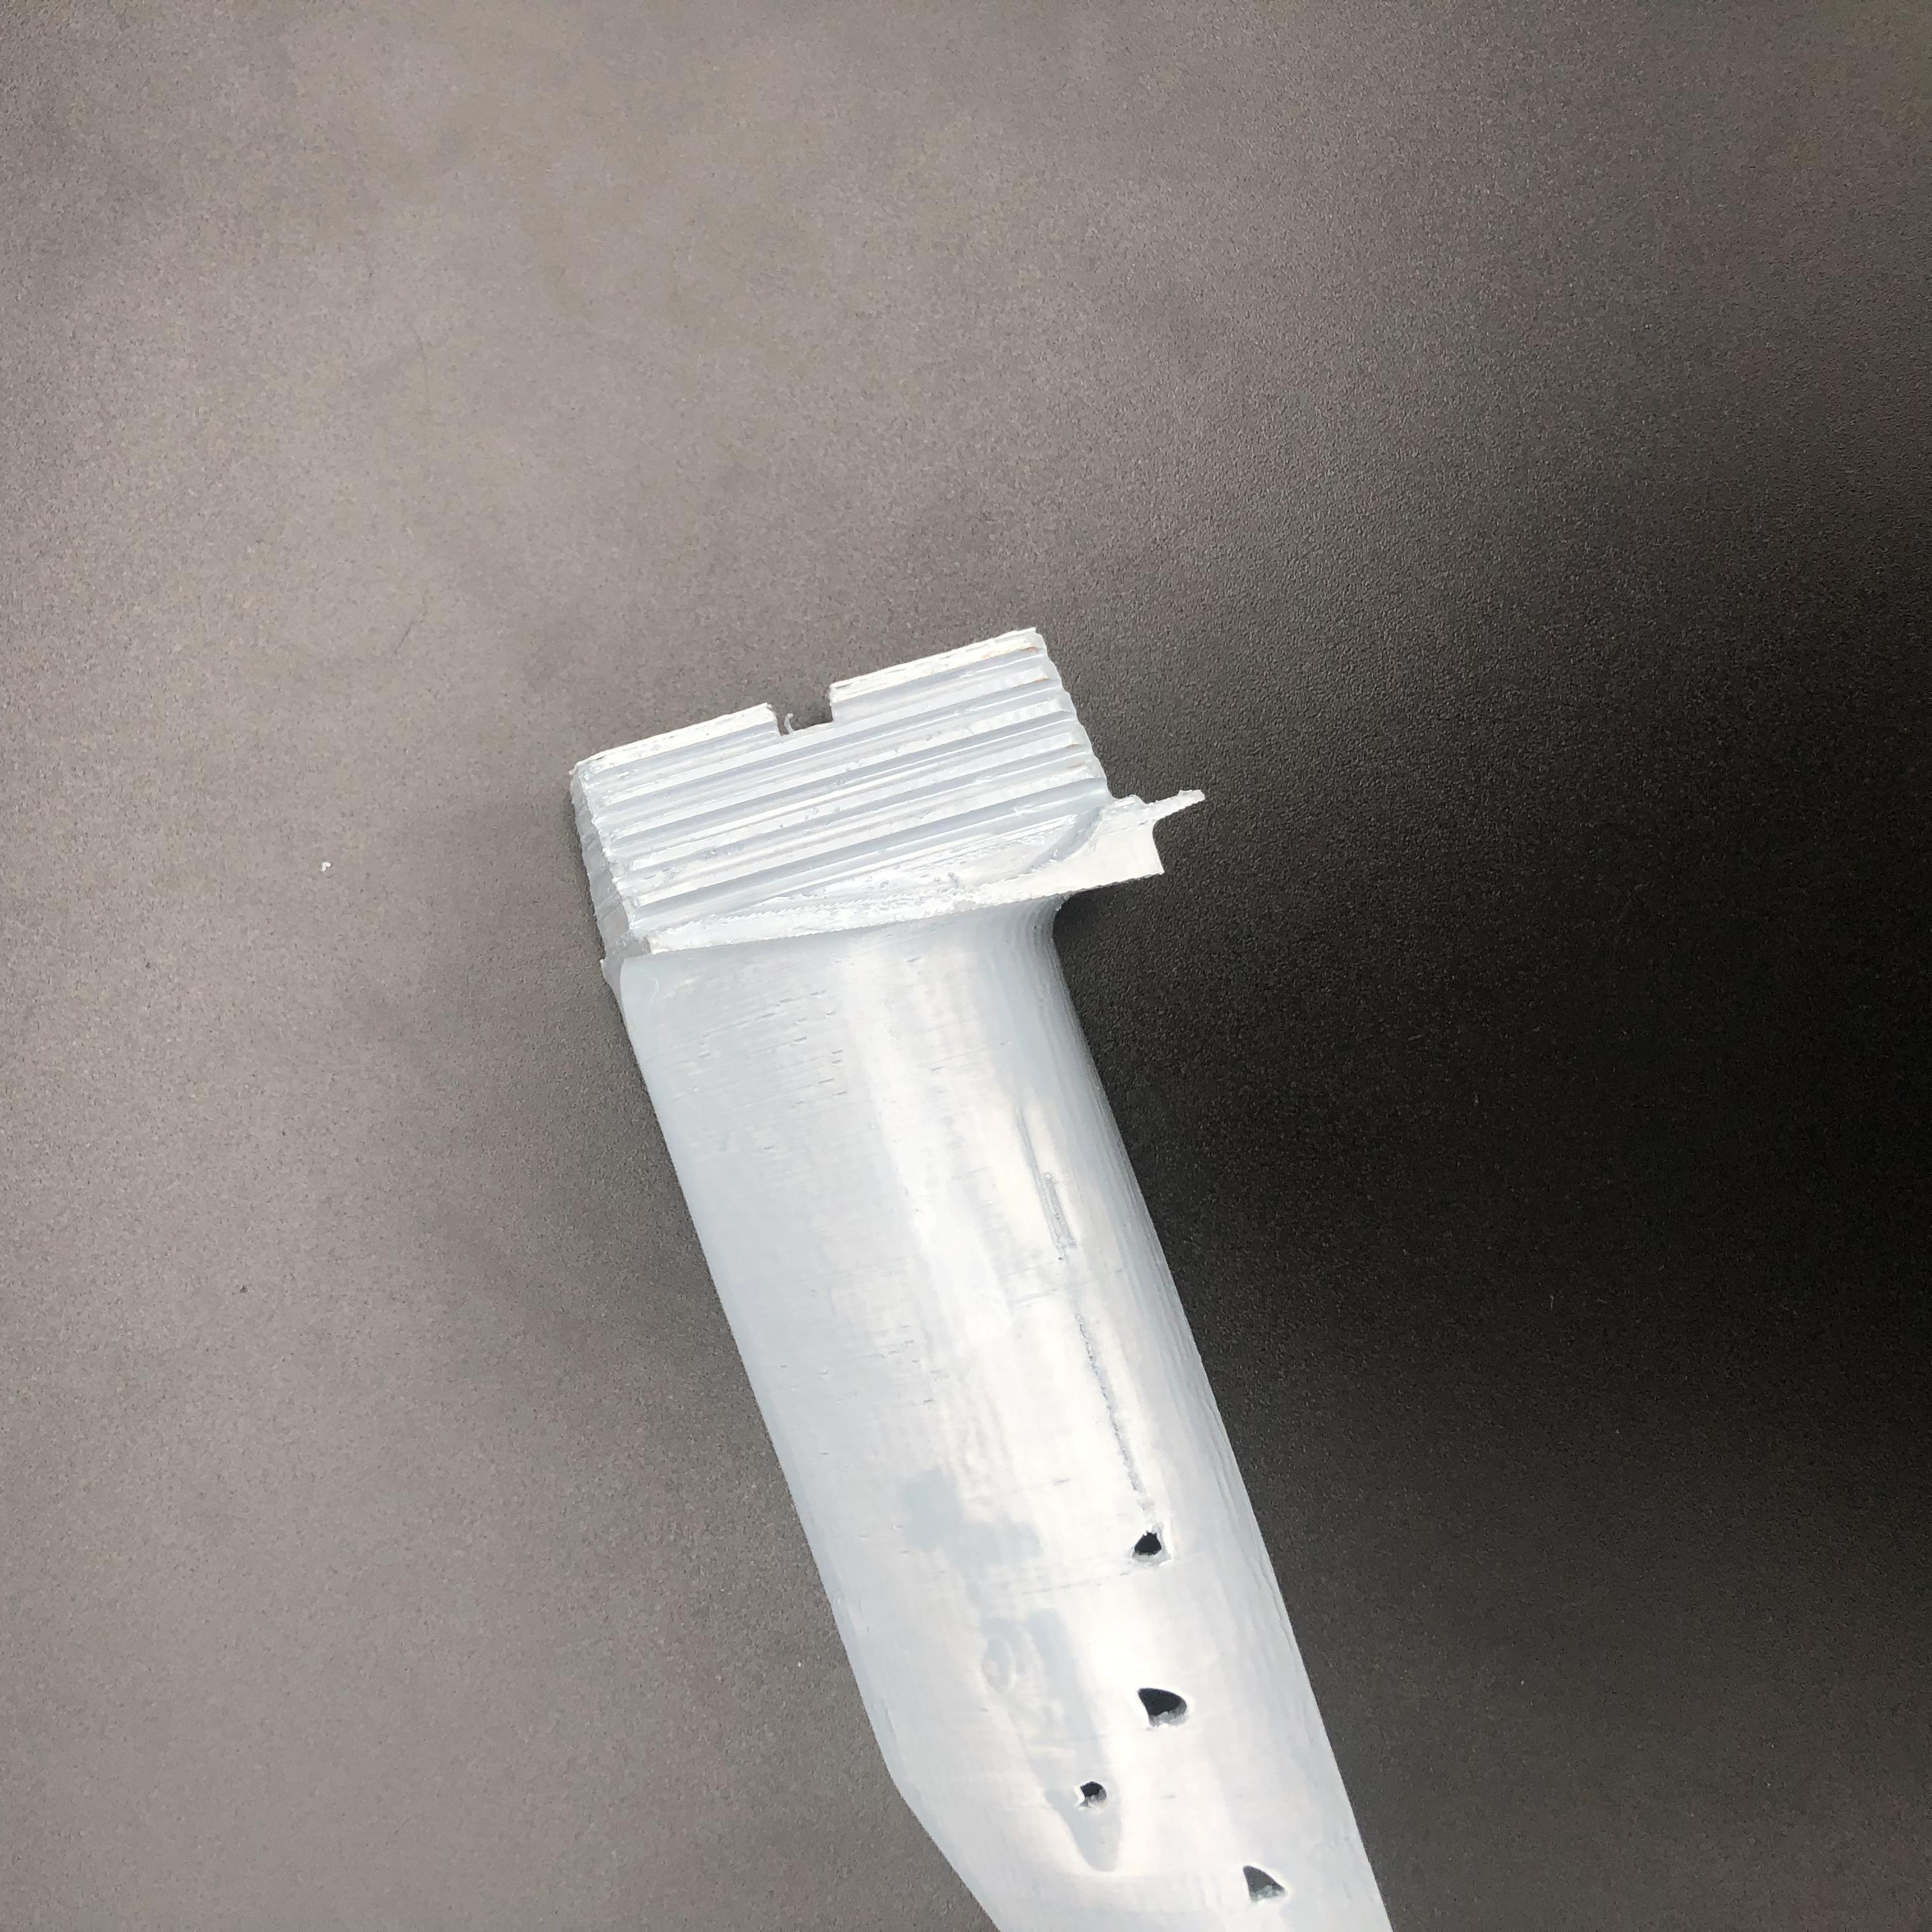breakdown: (1074, 1529, 1306, 1902)
